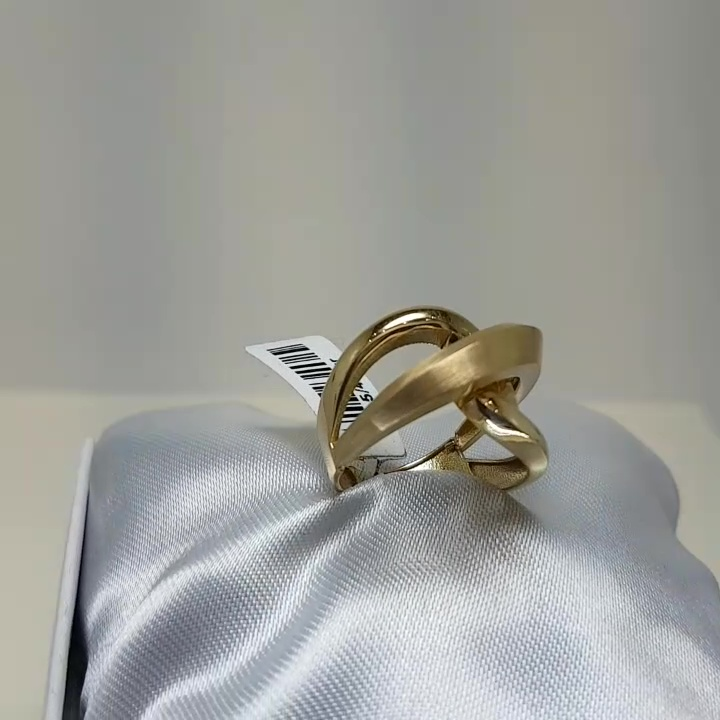Ring 3: (280, 286, 577, 539)
